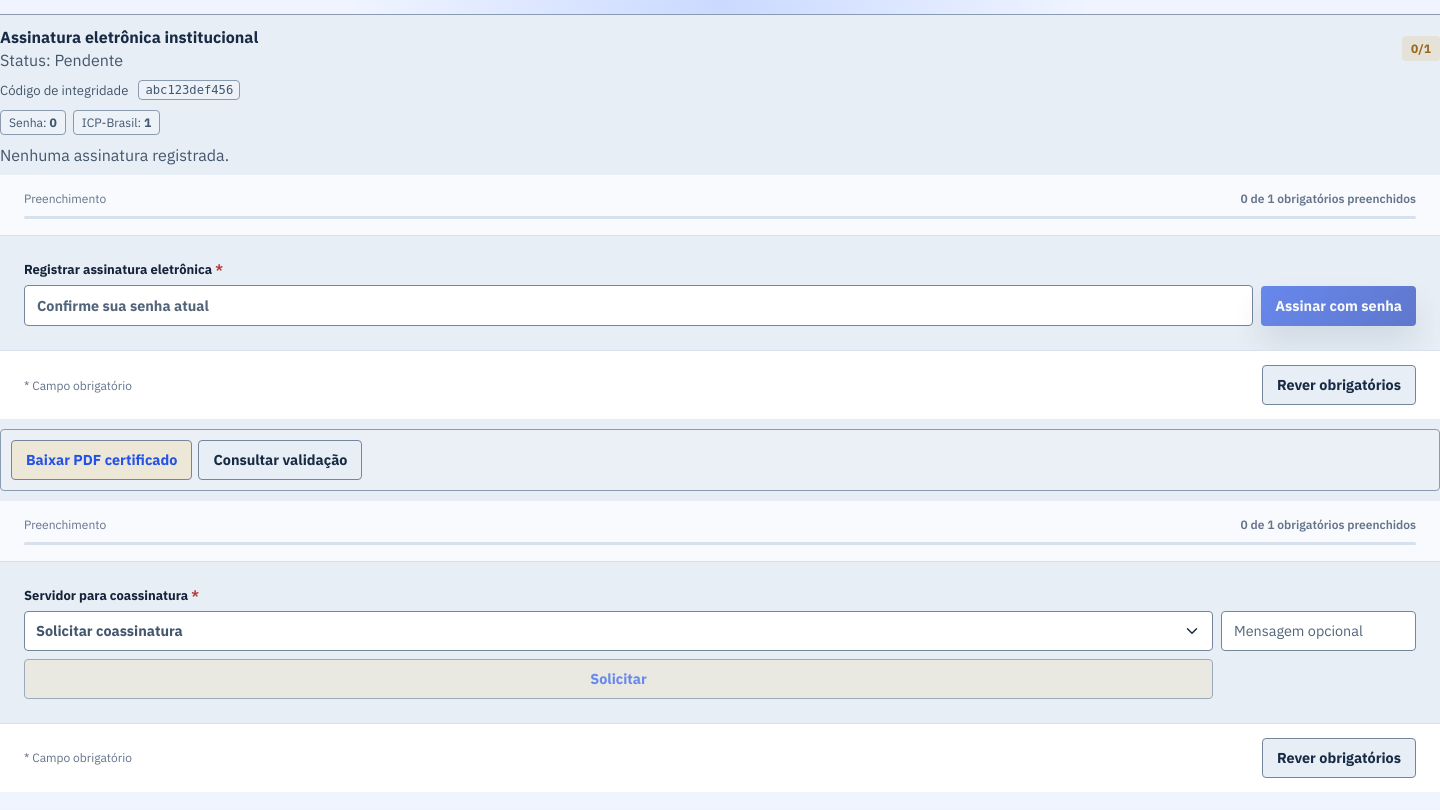
Test: DocumentSignaturePanel › apresenta o resultado autenticado da validação do PDF certificado
Click the button "Consultar validação" at (280, 460), box [198,440,362,480]
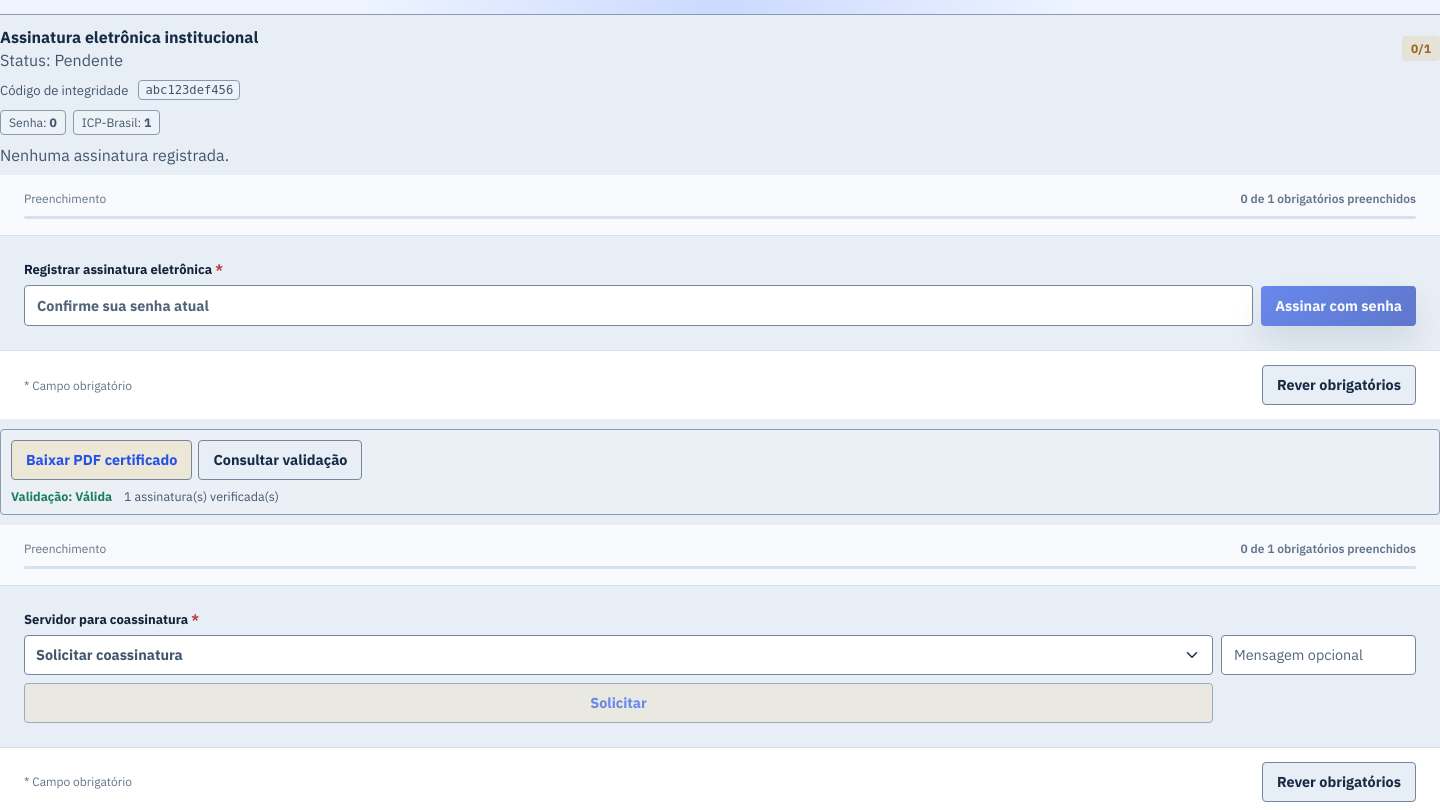
Result: the text "Validação: Válida" is shown at [11,488,112,504]
Result: the text "1 assinatura(s) verificada(s)" is shown at [124,488,279,504]
